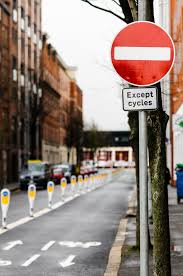No entry: (111, 20, 175, 86)
